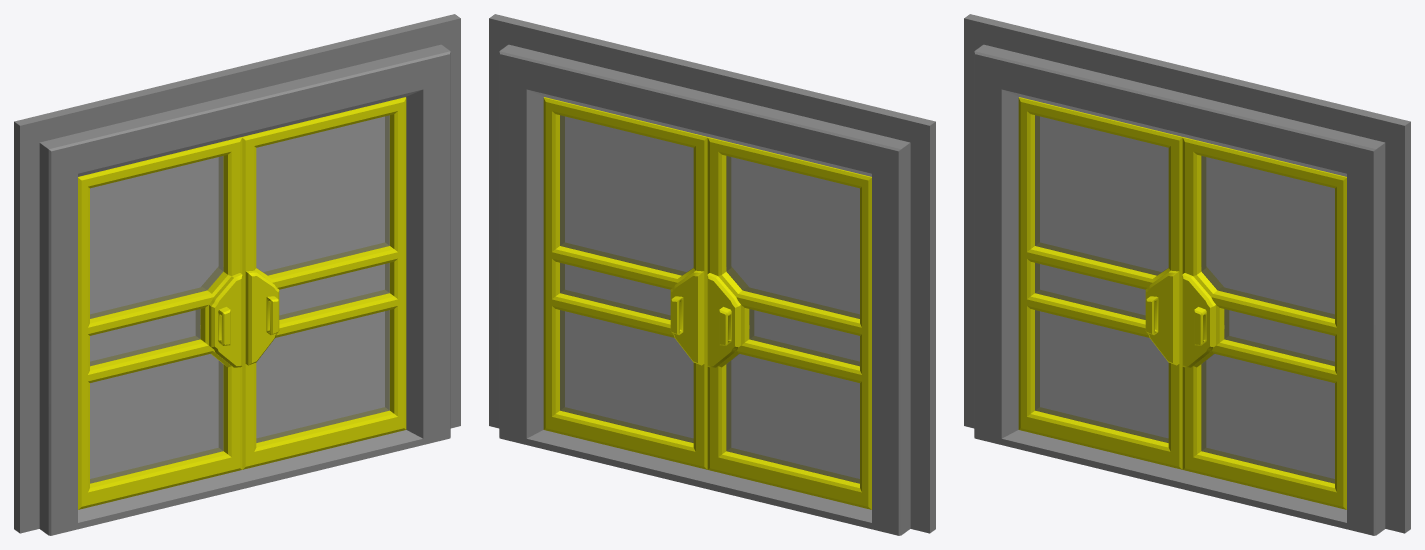
File: Double_ScifiRetroDoor.fbx
3 views of the same model, side by side, from view 1: azimuth 30°, elevation 25°; view 2: azimuth 150°, elevation 25°; view 3: azimuth 330°, elevation 25° (orthographic).
Parts seen in each view (by area): view 1: Double_ScifiDoorWall, Single_SciFiRetroDoor2, Single_SciFiRetroDoor1; view 2: Double_ScifiDoorWall, Single_SciFiRetroDoor1, Single_SciFiRetroDoor2; view 3: Double_ScifiDoorWall, Single_SciFiRetroDoor1, Single_SciFiRetroDoor2.
Part boxes in pixels (x1=…): Double_ScifiDoorWall: x1=14, y1=14, x2=460, y2=535; Single_SciFiRetroDoor2: x1=241, y1=97, x2=406, y2=469; Single_SciFiRetroDoor1: x1=78, y1=137, x2=242, y2=509; Double_ScifiDoorWall: x1=489, y1=14, x2=935, y2=535; Single_SciFiRetroDoor1: x1=707, y1=137, x2=871, y2=509; Single_SciFiRetroDoor2: x1=543, y1=97, x2=708, y2=469; Double_ScifiDoorWall: x1=964, y1=14, x2=1410, y2=535; Single_SciFiRetroDoor1: x1=1018, y1=97, x2=1183, y2=469; Single_SciFiRetroDoor2: x1=1182, y1=137, x2=1346, y2=509.
Bounding box in the file's own units: 392 × 347 × 43.32.
